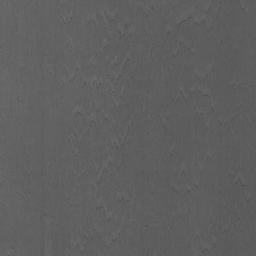Silk spot: (176, 17, 193, 32), (106, 75, 122, 90), (116, 133, 128, 152), (109, 14, 118, 30), (118, 31, 132, 41)
